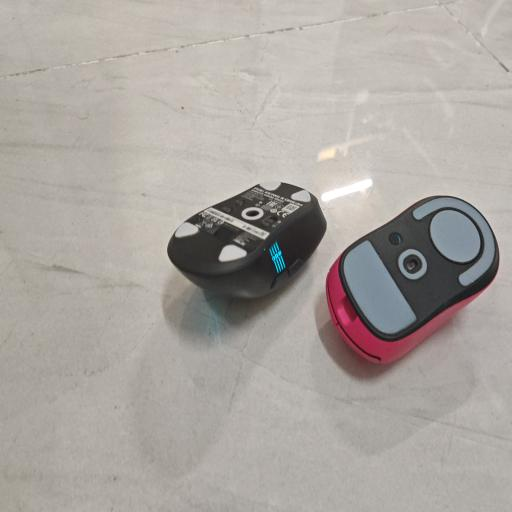mouse: (326, 192, 504, 364), (168, 182, 326, 302)
